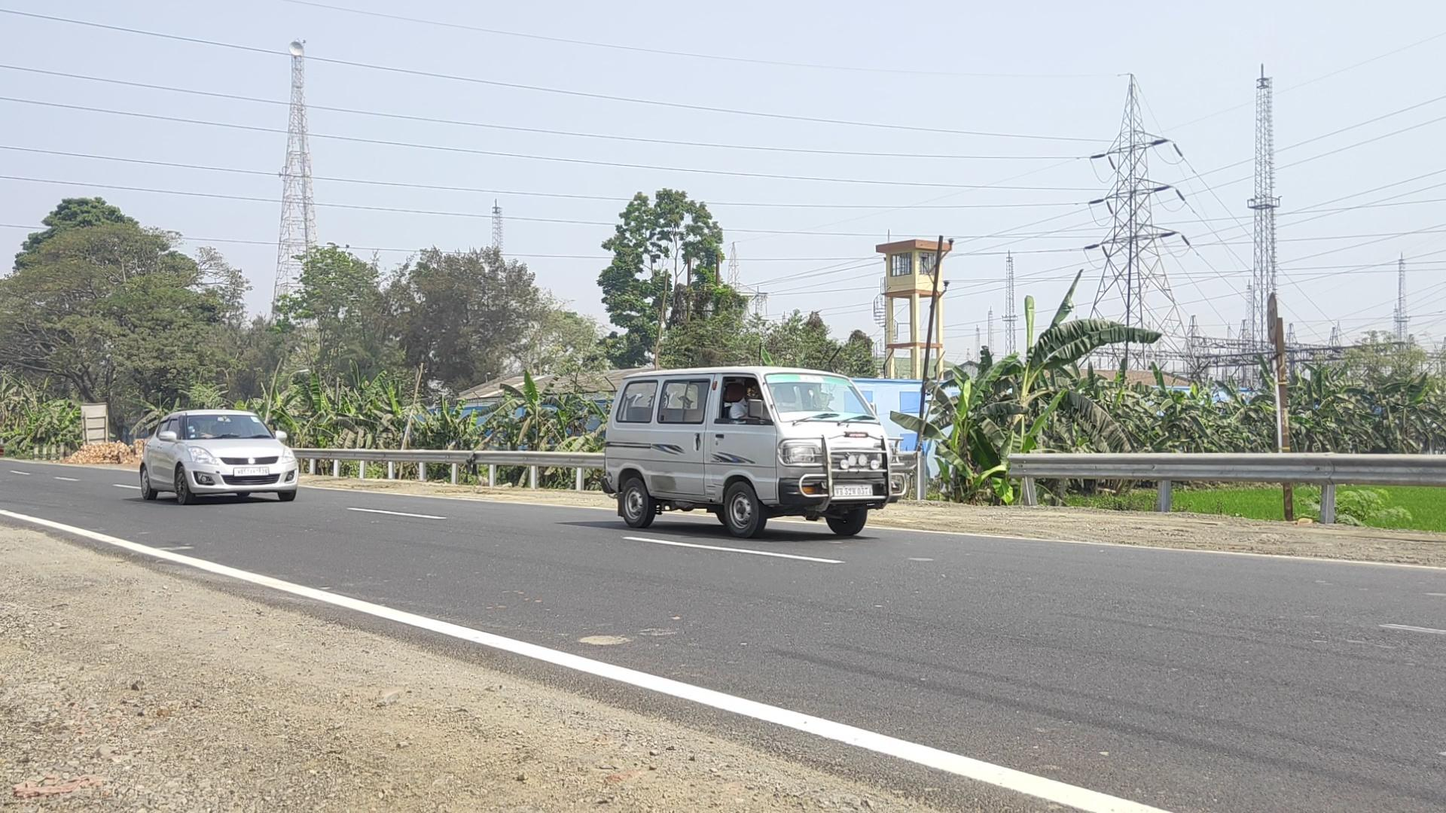car: (139, 410, 298, 506)
van: (601, 365, 907, 539)
